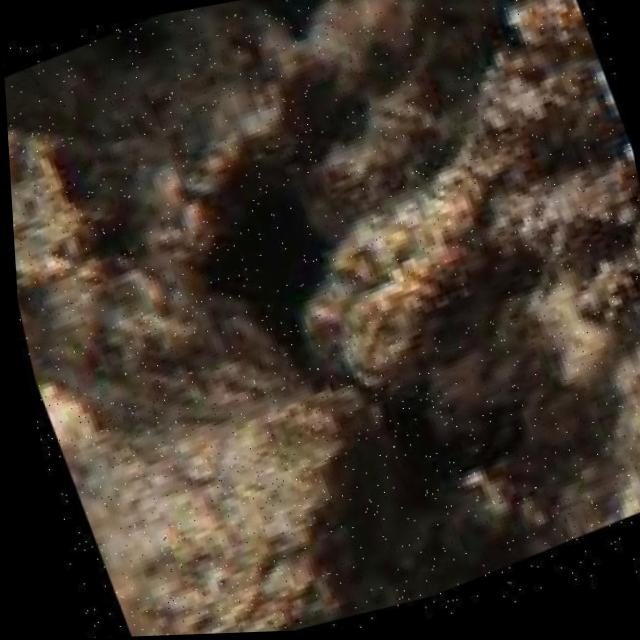Dead Coral: (250, 145, 595, 603)
